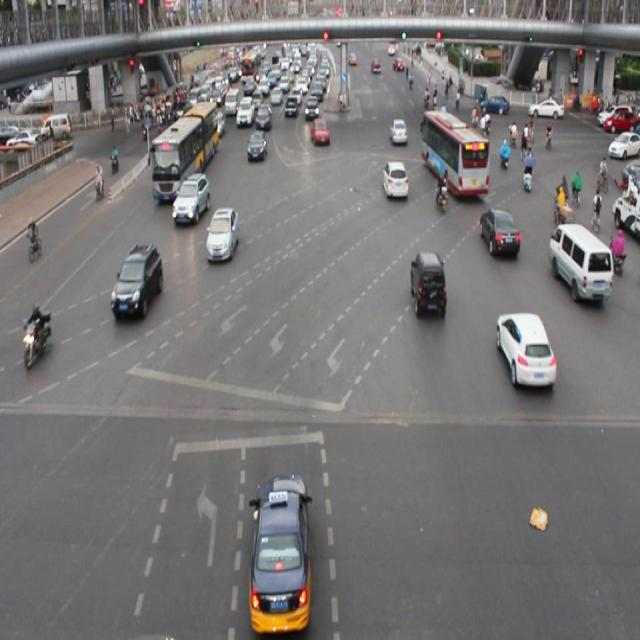car: (249, 472, 312, 629), (495, 310, 555, 386), (110, 241, 162, 322), (409, 250, 446, 320), (172, 172, 210, 225), (479, 205, 517, 258), (206, 205, 237, 262), (381, 159, 408, 201), (246, 129, 266, 163), (310, 115, 329, 147), (388, 117, 406, 145), (256, 103, 272, 133)
truck: (548, 221, 612, 303)
van: (153, 102, 218, 198), (423, 111, 487, 196)
